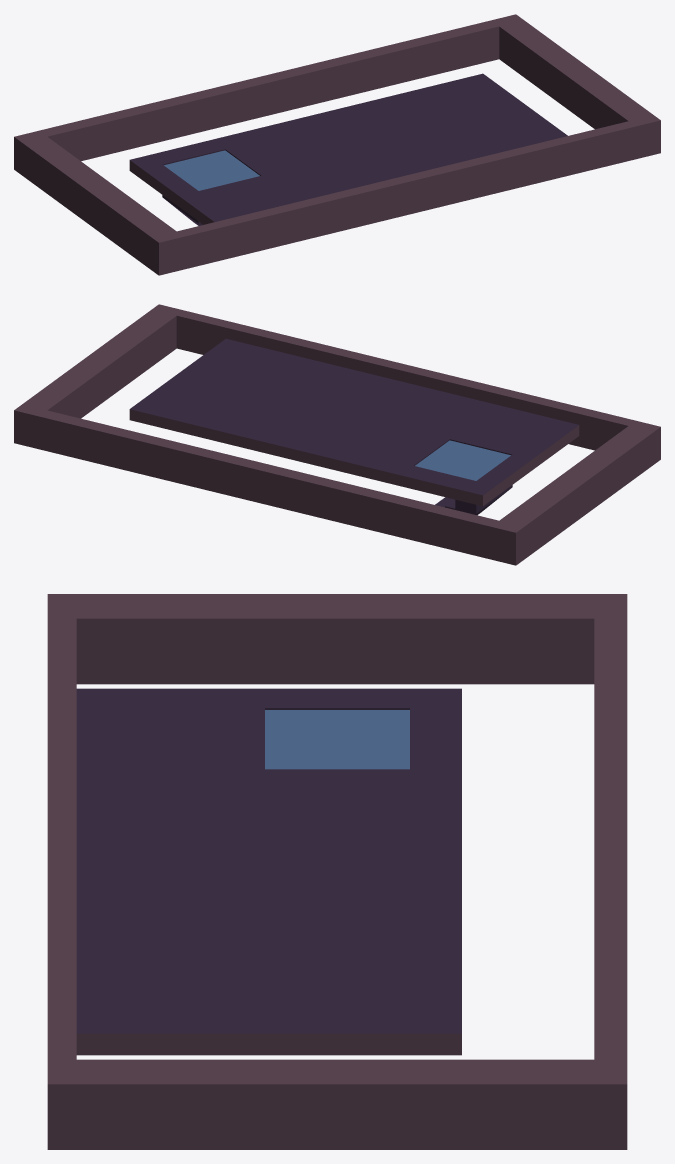
The model's file is contra_level_4_lift.fbx.
The picture shows the model from 3 angles, top to bottom: view 1: azimuth 30°, elevation 25°; view 2: azimuth 150°, elevation 25°; view 3: azimuth 270°, elevation 25°; orthographic projection. The views are drawn at different scales.
Parts seen in each view (by area): view 1: Lift, LiftDoor; view 2: Lift, LiftDoor; view 3: Lift, LiftDoor.
Part boxes in pixels (bbox=[...]): Lift: bbox=[14, 14, 660, 275]; LiftDoor: bbox=[164, 150, 259, 190]; Lift: bbox=[14, 304, 660, 565]; LiftDoor: bbox=[415, 440, 510, 480]; Lift: bbox=[47, 594, 627, 1149]; LiftDoor: bbox=[265, 710, 409, 769].
Size of the model in its own units: 4800 by 700 by 2400.
